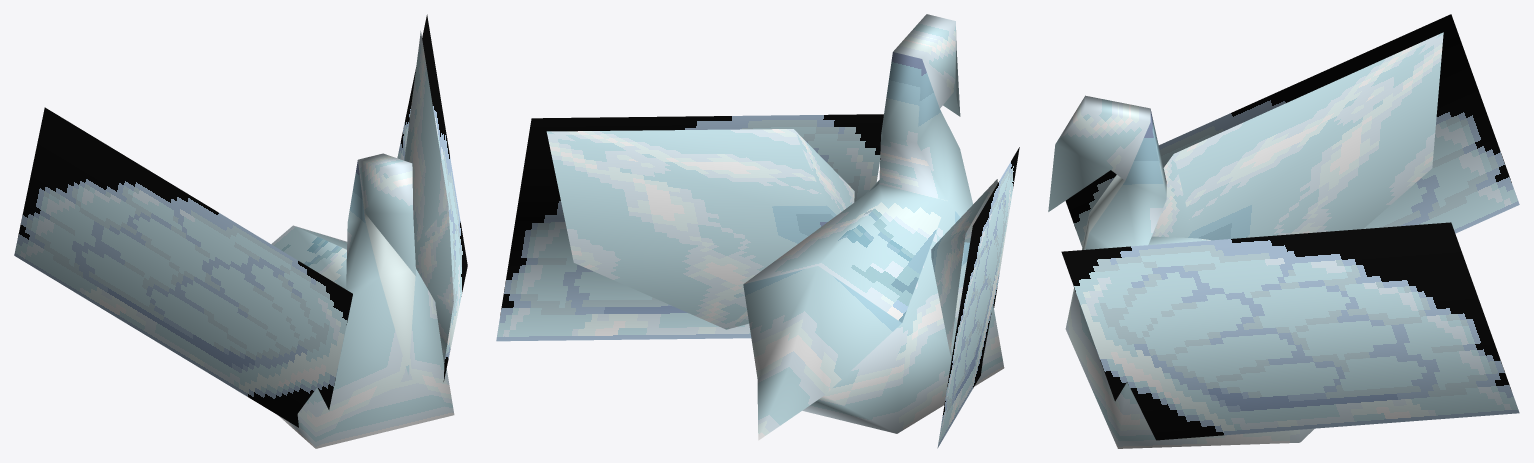
3 views of the same model, side by side, from view 1: azimuth 30°, elevation 25°; view 2: azimuth 150°, elevation 25°; view 3: azimuth 270°, elevation 25° (orthographic). The views are drawn at different scales.
Visible parts, largest first — view 1: 3157IMFY03_09; view 2: 3157IMFY03_09; view 3: 3157IMFY03_09.
Part boxes in pixels (x1=…): 3157IMFY03_09: x1=14, y1=14, x2=467, y2=448; 3157IMFY03_09: x1=496, y1=14, x2=1019, y2=448; 3157IMFY03_09: x1=1048, y1=14, x2=1519, y2=448.
Bounding box in the file's own units: 1.44 × 0.9973 × 1.38.
3 materials, 3 textured.
